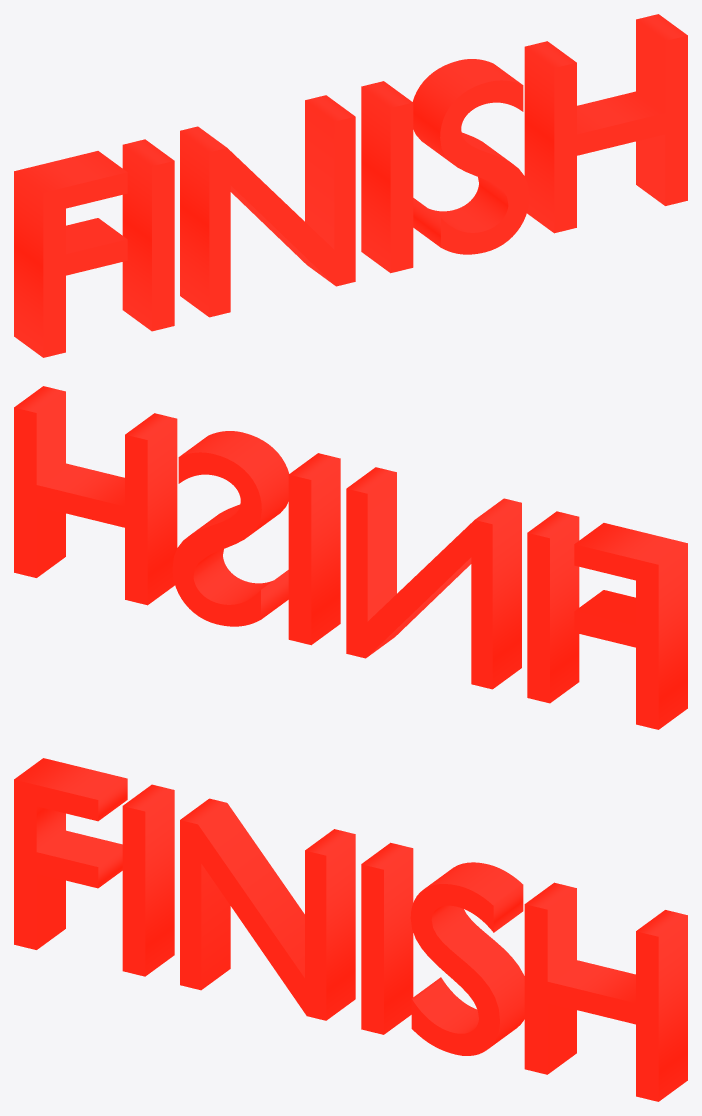
The model's file is finishText.fbx.
3 views of the same model, one above another, from view 1: azimuth 30°, elevation 25°; view 2: azimuth 150°, elevation 25°; view 3: azimuth 330°, elevation 25° (orthographic).
Visible parts, largest first — view 1: Text; view 2: Text; view 3: Text.
Boxes of the visible parts, box(x1,y1,x2,y2) form: Text: box(14, 14, 687, 357); Text: box(14, 386, 687, 729); Text: box(14, 758, 687, 1101).
Size of the model in its own units: 279 by 70 by 22.
